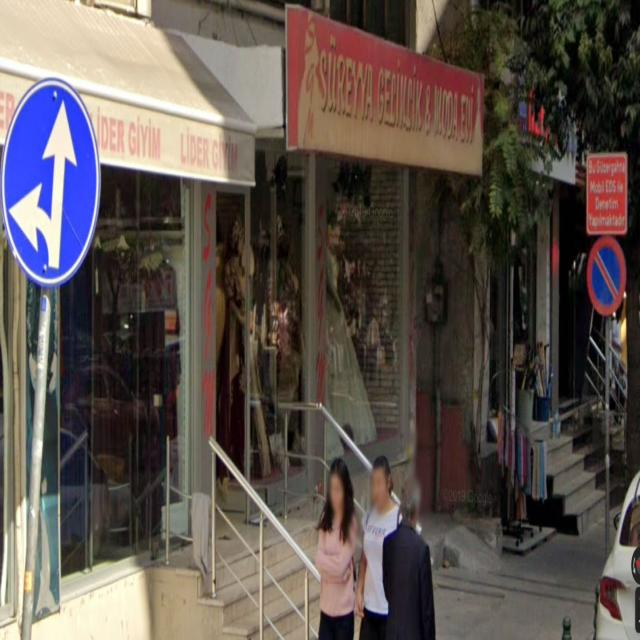ilerisol: (1, 78, 101, 280)
parkyasak: (585, 235, 626, 318)
